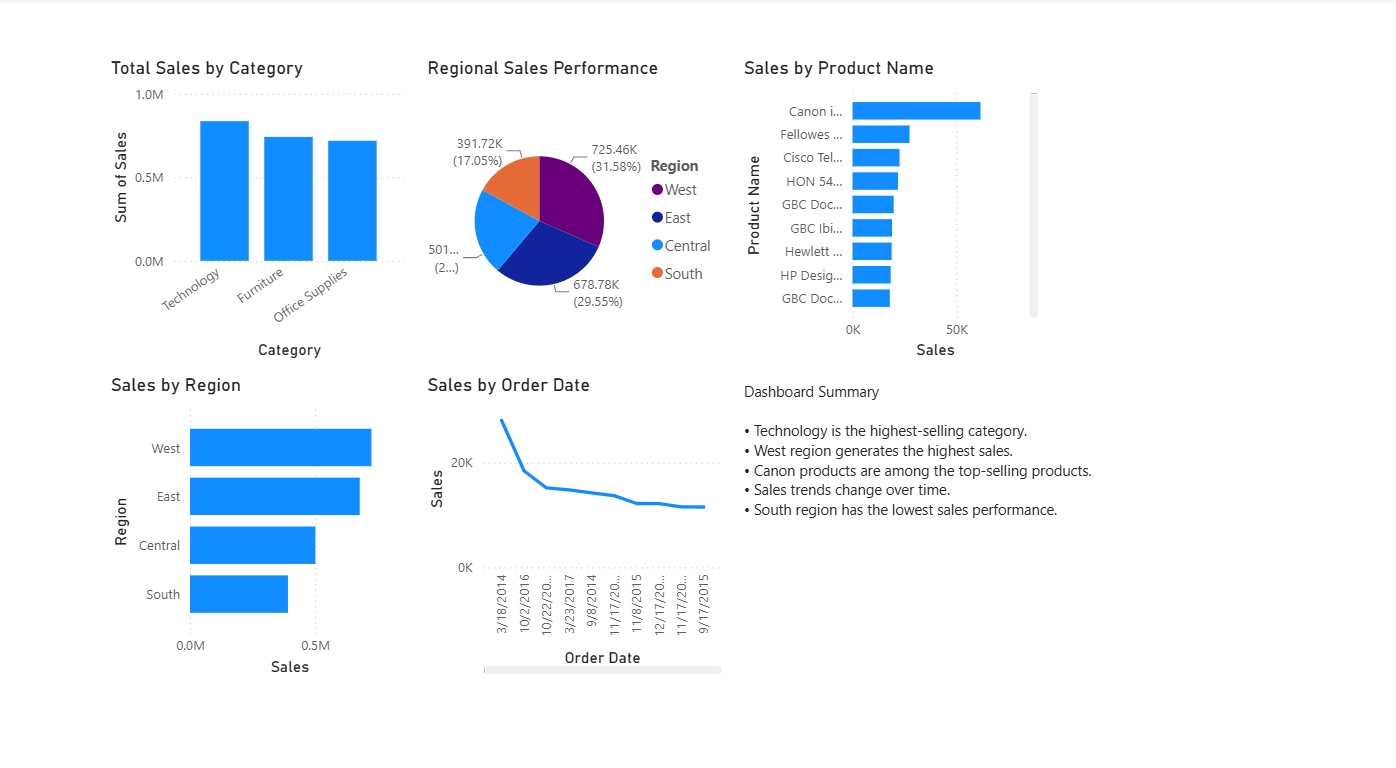

The dashboard page shown, as its layout file describes it:
{"tool":"powerbi","page":{"name":"Page 1","canvas":[1280,720],"ordinal":0},"visuals":[{"type":"clusteredColumnChart","title":"Total Sales by Category","fields":{"Y":["Sum(Sample - Superstore.Sales)"],"Category":["Sample - Superstore.Category"]},"box":[96.9,54.5,278.6,280.1],"z":0},{"type":"barChart","fields":{"Y":["Sum(Sample - Superstore.Sales)"],"Category":["Sample - Superstore.Region"]},"box":[97,345,279,280],"z":1},{"type":"pieChart","title":"Regional Sales Performance","fields":{"Category":["Sample - Superstore.Region"],"Y":["Sum(Sample - Superstore.Sales)"]},"box":[386.5,55,279,280],"z":2},{"type":"lineChart","fields":{"Category":["Sample - Superstore.Order Date"],"Y":["Sum(Sample - Superstore.Sales)"]},"box":[387,345,279,280],"z":3},{"type":"barChart","fields":{"Y":["Sum(Sample - Superstore.Sales)"],"Category":["Sample - Superstore.Product Name"]},"box":[676.5,55,279,280],"z":4},{"type":"textbox","box":[676.6,345.8,602.5,374.6],"z":5}]}

Visuals, with their boxes in screenshot pixels (x1, y1, x2, y2), scaled from the page's 1280x720 canvas onto the 1396x768 screenshot:
"Total Sales by Category" clusteredColumnChart: 106 58 410 357
barChart - Sum(Sample - Superstore.Sales) x Sample - Superstore.Region: 106 368 410 667
"Regional Sales Performance" pieChart: 422 59 726 357
lineChart - Sample - Superstore.Order Date x Sum(Sample - Superstore.Sales): 422 368 726 667
barChart - Sum(Sample - Superstore.Sales) x Sample - Superstore.Product Name: 738 59 1042 357
textbox: 738 369 1395 767
